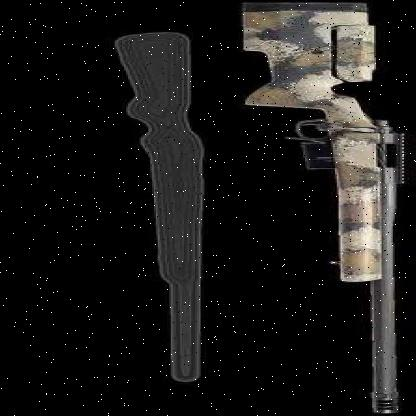rifle: (227, 0, 416, 415)
